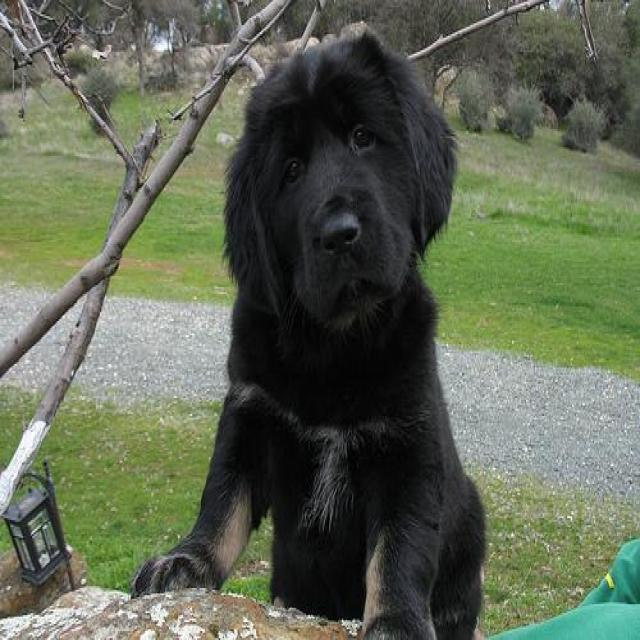relax: (121, 3, 519, 640)
